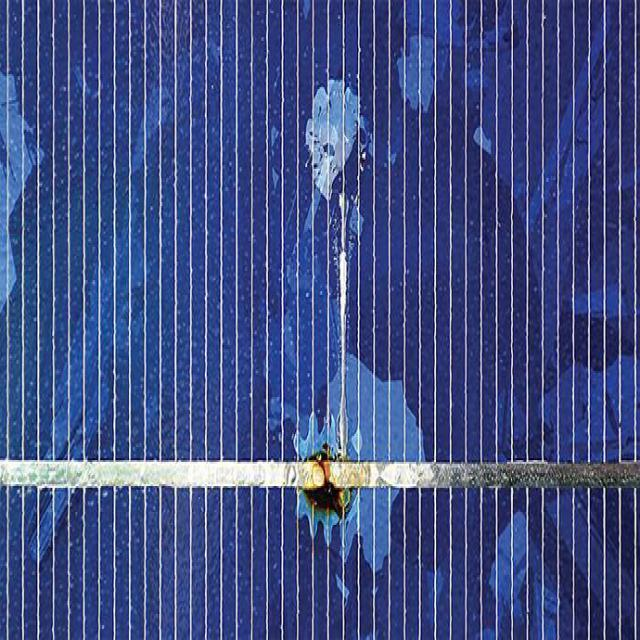Electrical-damage: (296, 424, 363, 523), (1, 81, 25, 287), (307, 84, 355, 177)
